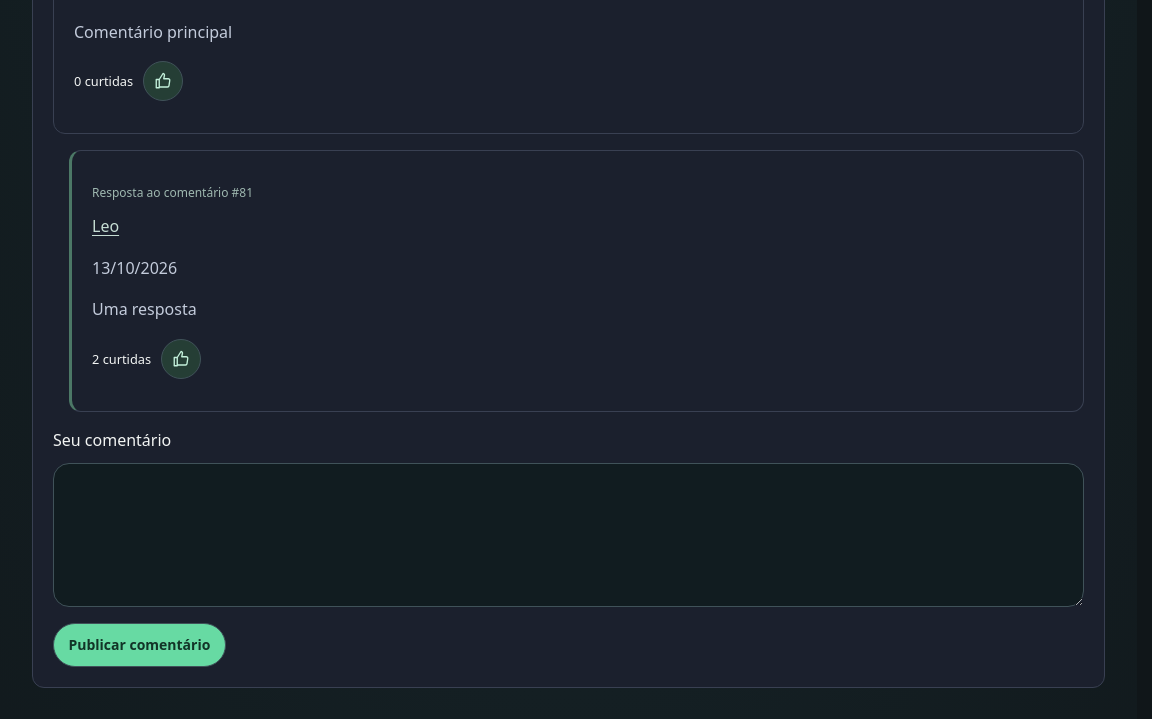
Test case: curtir e retirar resposta de Leo usa Bearer sem corpo e confirma contagem pública
The image size is (1152, 719).
(page scrolled)
Check: the text "Comentário principal" is shown, box [74, 20, 232, 42]
Check: the icon below "Resposta ao comentário #" is shown, box [172, 350, 190, 368]
Click the button named "Curtir resposta de Leo". click: (182, 359)
box: [162, 339, 202, 379]
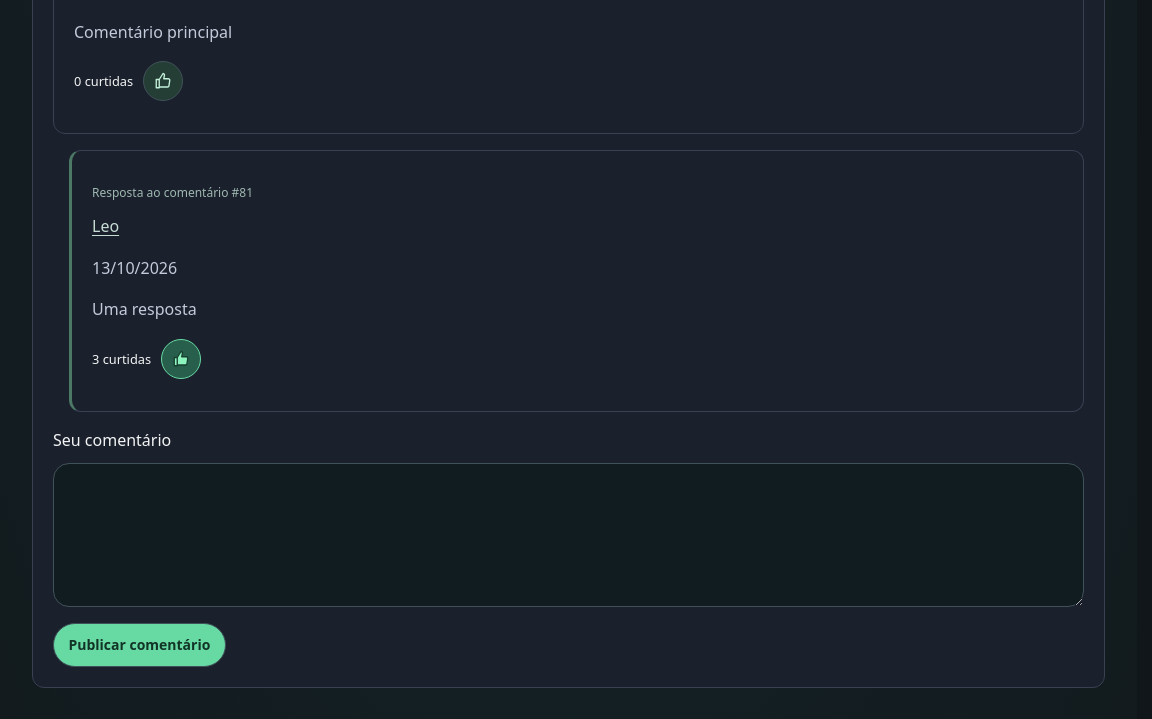
Check: the text "3 curtidas" is shown, box [92, 349, 151, 369]
Click the button named "Retirar curtida da resposta de Leo". click: (182, 359)
box: [162, 339, 202, 379]
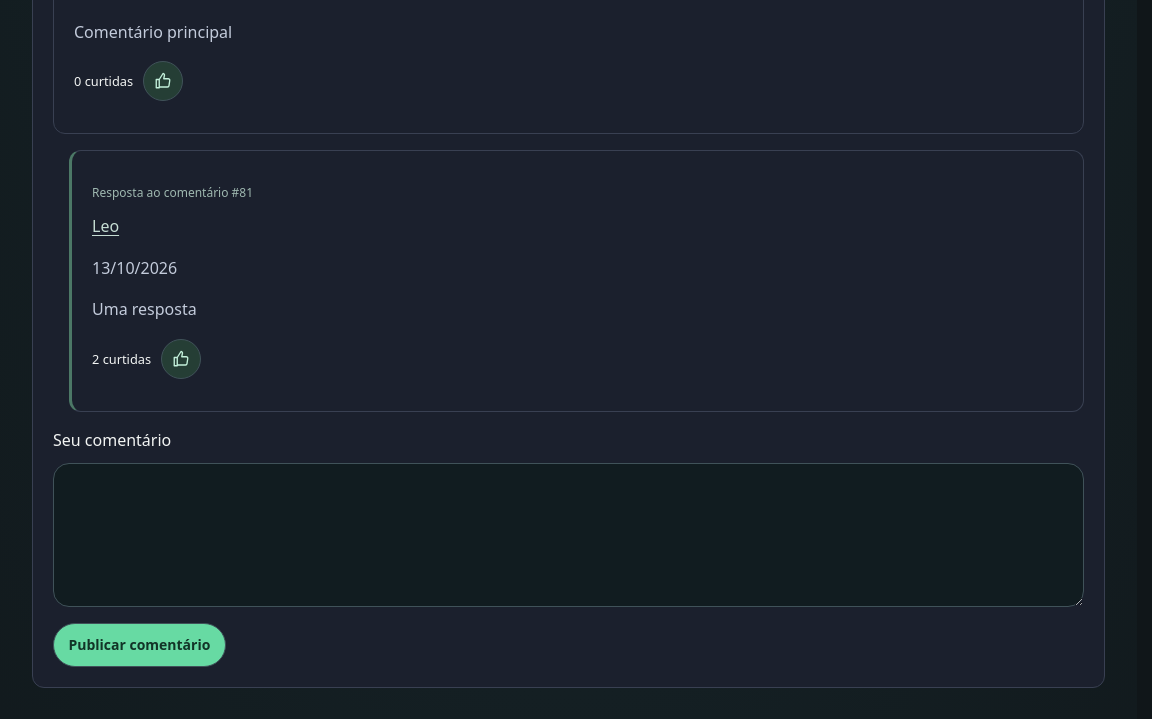
Check: the button named "Curtir resposta de Leo" is shown, box [162, 339, 202, 379]
Check: the text "2 curtidas" is shown, box [92, 349, 151, 369]
